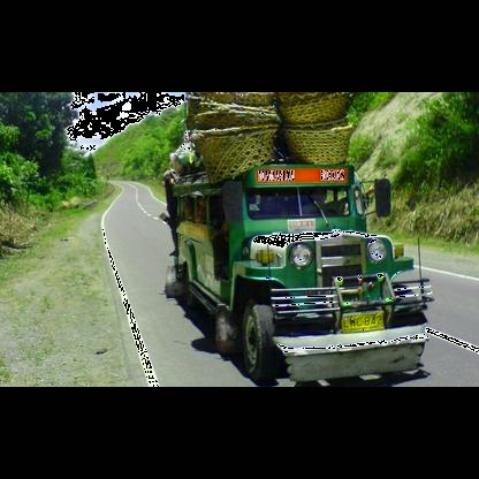jeepney: (155, 161, 439, 383)
